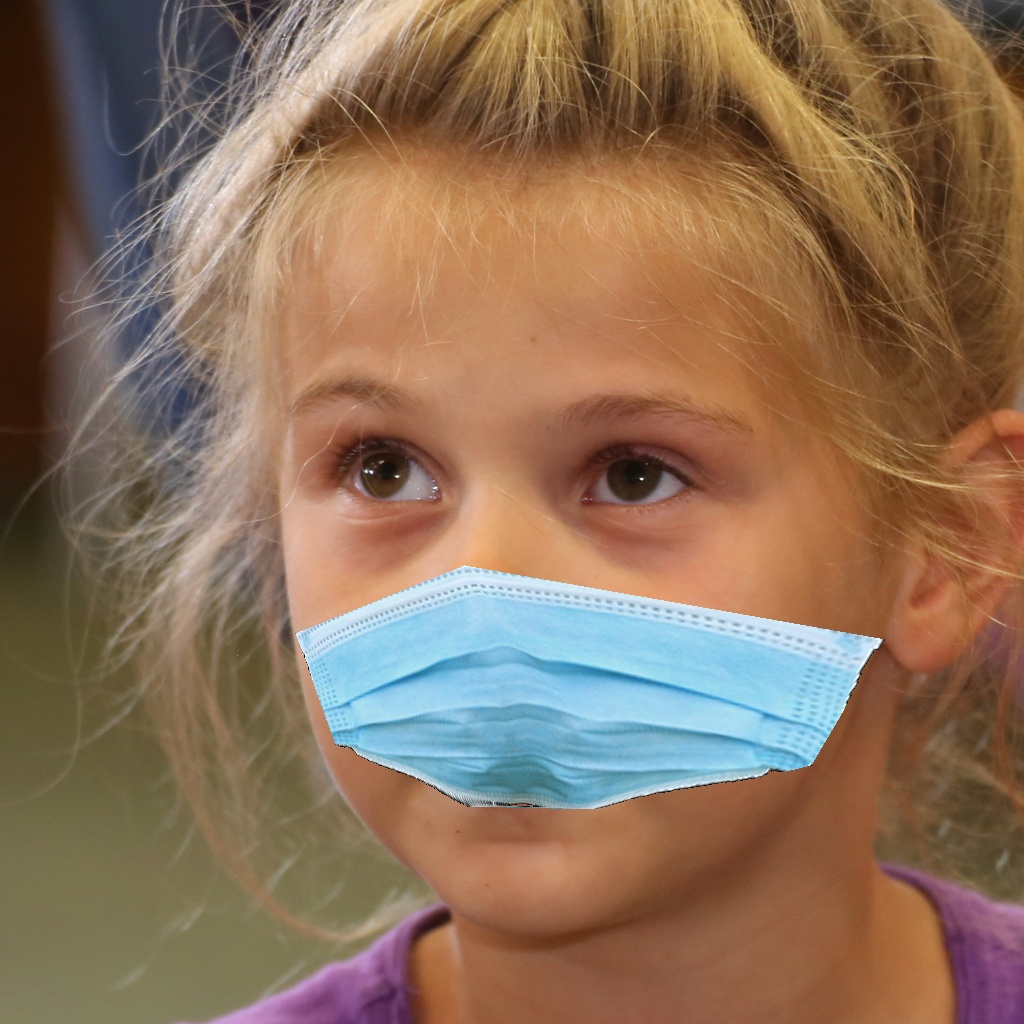mask_weared_incorrect: (289, 364, 858, 931)
